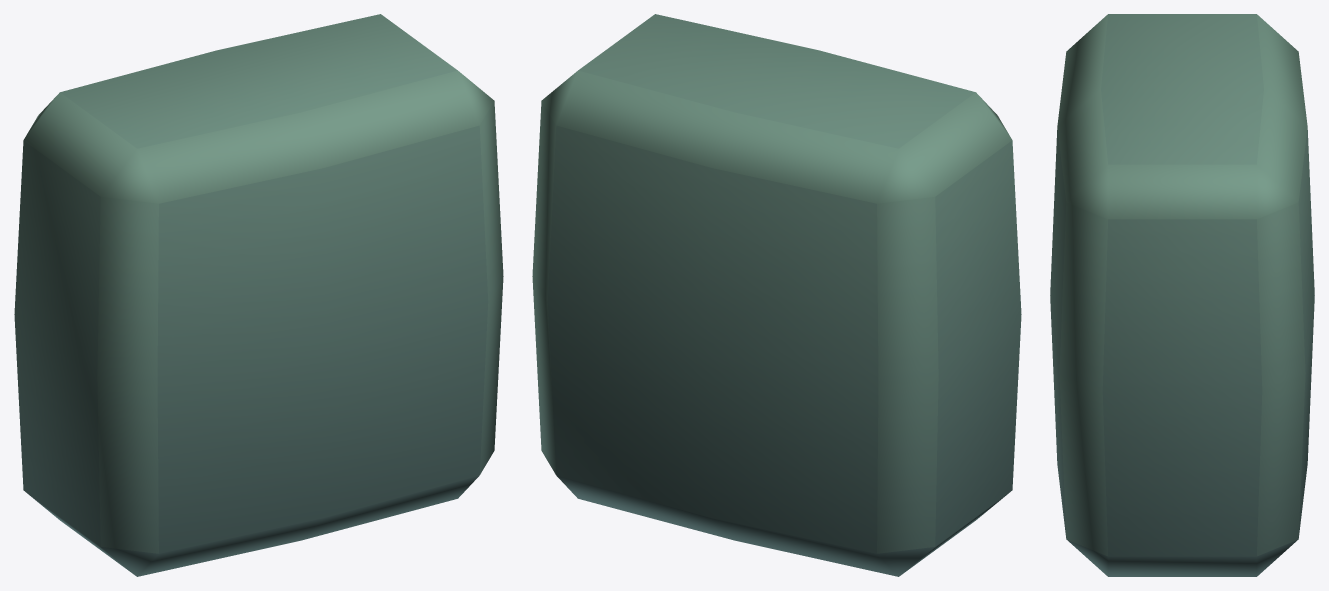
File: cube_02_shade_1_LOD_setup.fbx
The picture shows the model from 3 angles, left to right: view 1: azimuth 30°, elevation 25°; view 2: azimuth 150°, elevation 25°; view 3: azimuth 270°, elevation 25°; orthographic projection. The views are drawn at different scales.
Visible parts, largest first — view 1: cube_02_shade_1_LOD0; view 2: cube_02_shade_1_LOD0; view 3: cube_02_shade_1_LOD0.
Boxes of the visible parts, bbox=[...] form: cube_02_shade_1_LOD0: bbox=[14, 14, 503, 576]; cube_02_shade_1_LOD0: bbox=[532, 14, 1021, 576]; cube_02_shade_1_LOD0: bbox=[1050, 14, 1314, 576].
Size of what is drawn, in the model's own units: 54.61 by 55.02 by 32.01.
